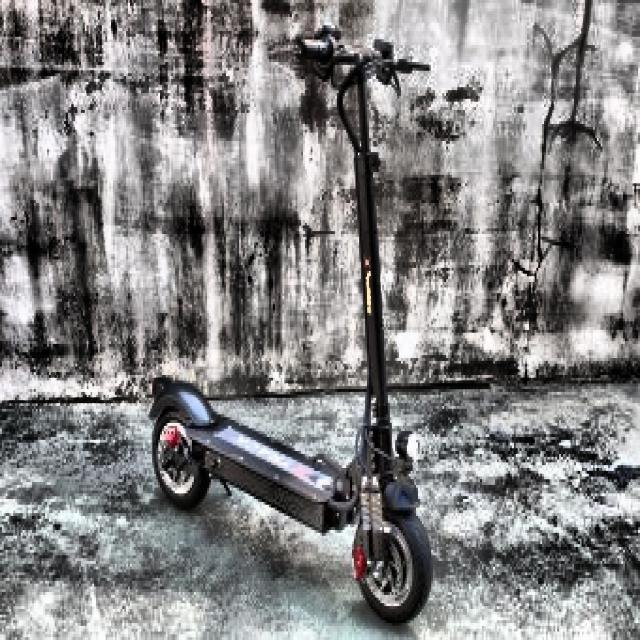bike: (148, 27, 436, 626)
